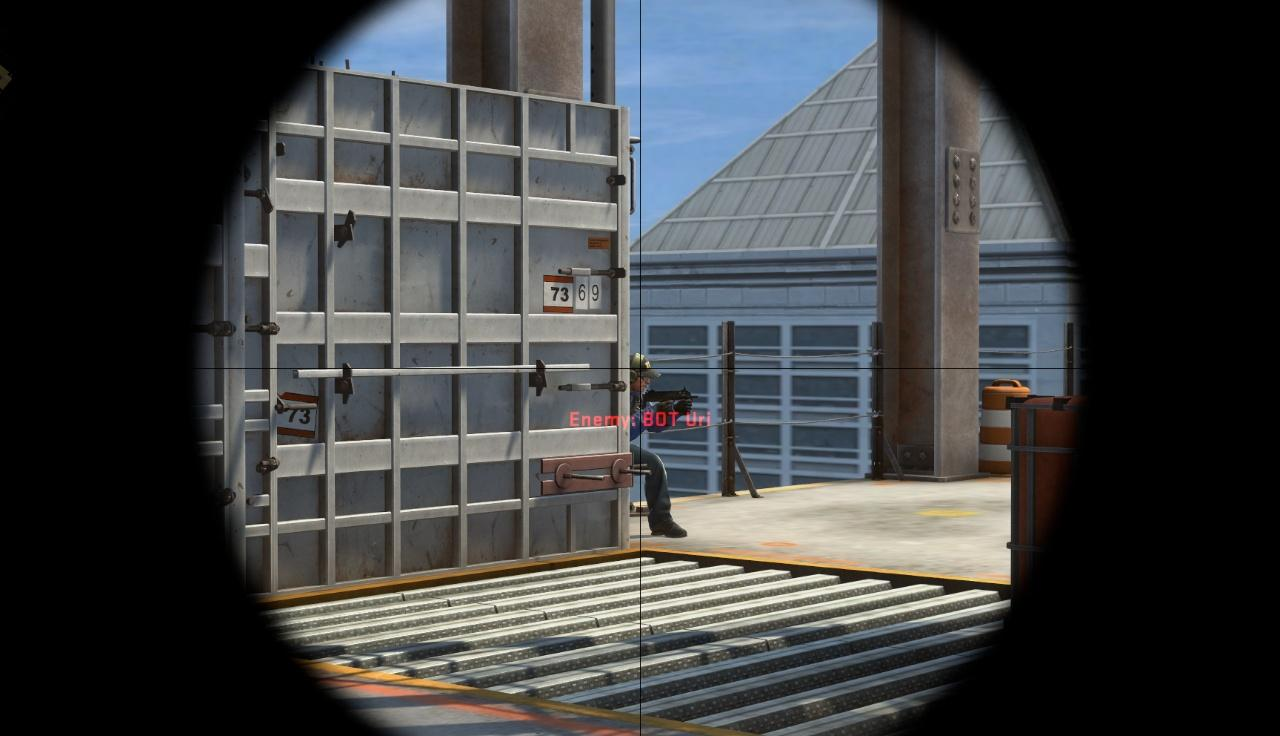ct: (631, 353, 683, 538)
cthead: (631, 354, 657, 394)
